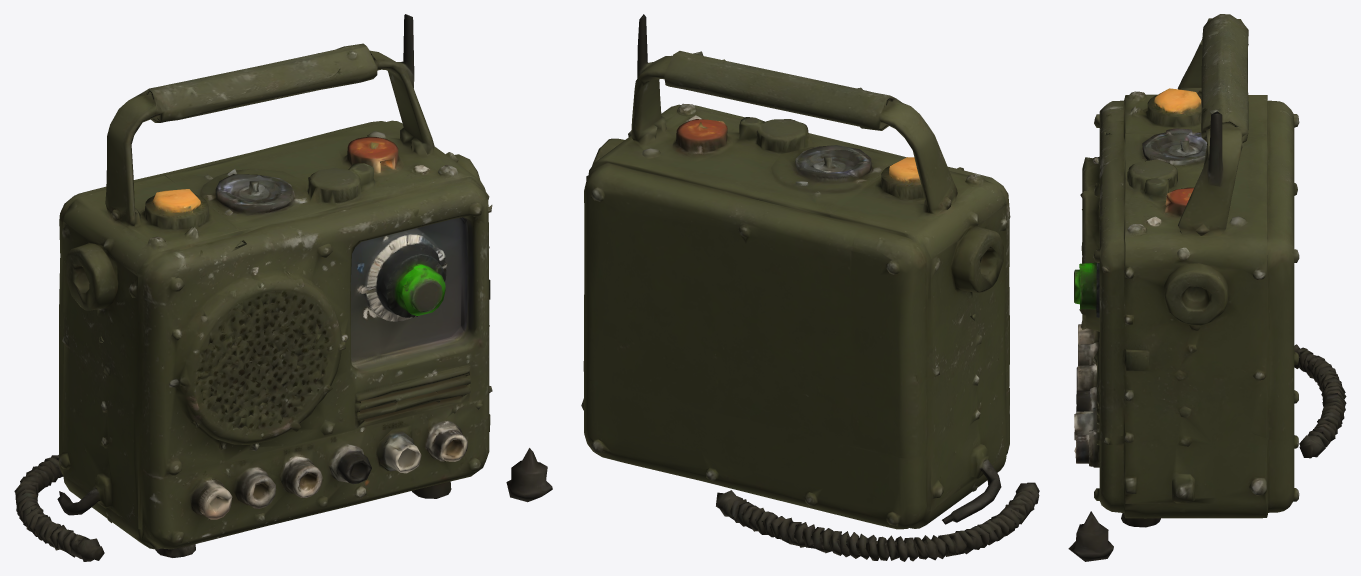
File: shuttle_radio.glb
3 renders of one model, left to right at view 1: azimuth 30°, elevation 25°; view 2: azimuth 150°, elevation 25°; view 3: azimuth 270°, elevation 25°, orthographic. The views are drawn at different scales.
Parts seen in each view (by area): view 1: tripo_node_675821e0-1010-4c5f-ae11-170677813a7f; view 2: tripo_node_675821e0-1010-4c5f-ae11-170677813a7f; view 3: tripo_node_675821e0-1010-4c5f-ae11-170677813a7f.
Part boxes in pixels (x1,y1,x2,y2): tripo_node_675821e0-1010-4c5f-ae11-170677813a7f: (14,14,552,561); tripo_node_675821e0-1010-4c5f-ae11-170677813a7f: (581,14,1039,561); tripo_node_675821e0-1010-4c5f-ae11-170677813a7f: (1068,14,1346,561).
Size of the model in its own units: 0.9785 by 0.9221 by 0.5592.
1 material, 1 textured.
